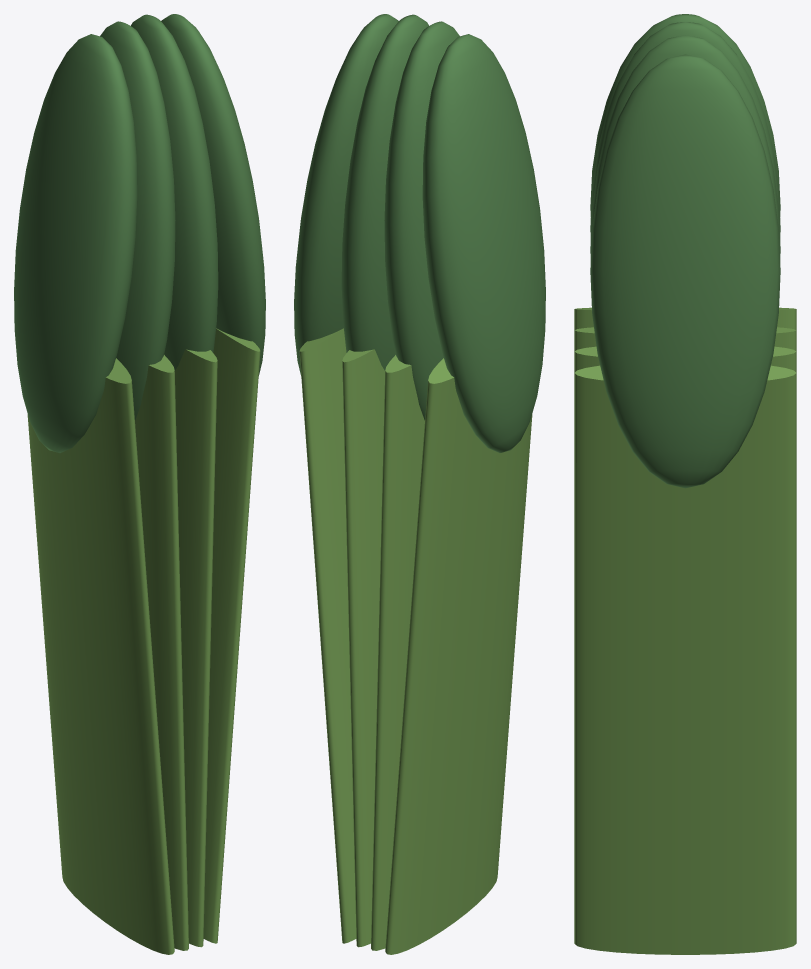
File: wp-branche-de-celeri.glb
The picture shows the model from 3 angles, left to right: view 1: azimuth 30°, elevation 25°; view 2: azimuth 150°, elevation 25°; view 3: azimuth 270°, elevation 25°; orthographic projection.
Visible parts, largest first — view 1: wp-branche-de-celeri; view 2: wp-branche-de-celeri; view 3: wp-branche-de-celeri.
Boxes of the visible parts, x1=… form: wp-branche-de-celeri: x1=14, y1=14, x2=265, y2=954; wp-branche-de-celeri: x1=294, y1=14, x2=545, y2=954; wp-branche-de-celeri: x1=574, y1=14, x2=796, y2=954.
Size of the model in its own units: 0.0776 by 0.3161 by 0.07.
